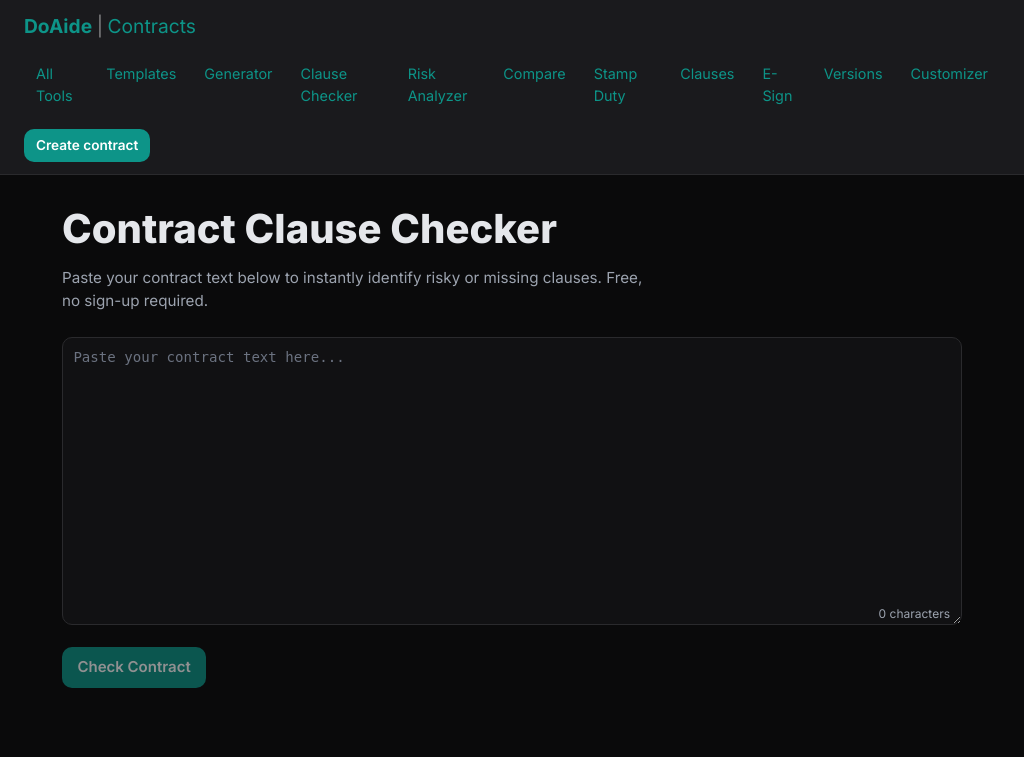
Test: CheckerPage › detects missing clauses
This screenshot has width=1024, height=757.
In the text box named "Contract text to check": x=512, y=481 [62,337,962,625], type "This is a simple contract between two parties."
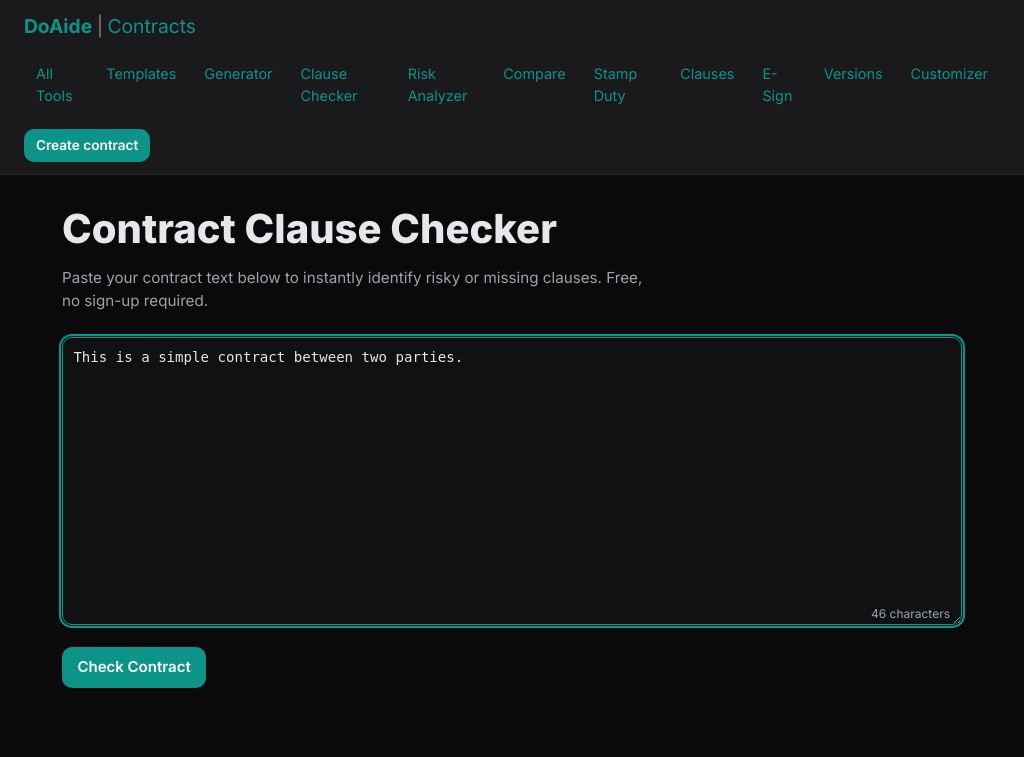
Click the button "Check Contract": x=134, y=668 [62,647,206,688]
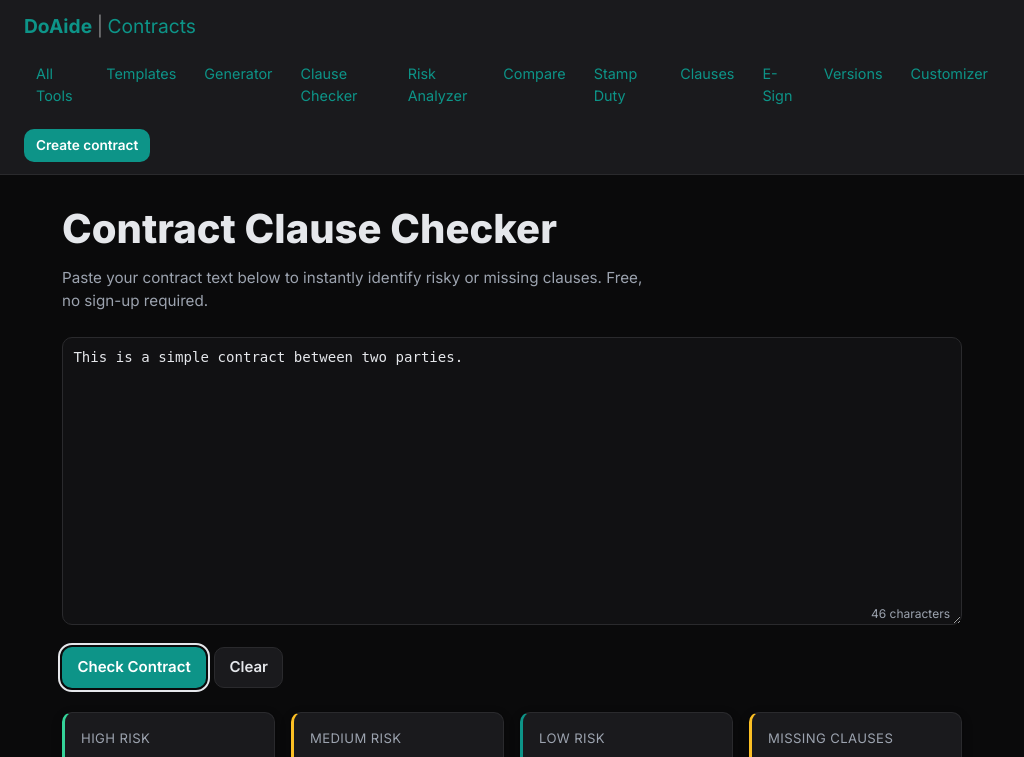
Check: the text "Missing Clauses" is shown, box [768,730,893,746]
